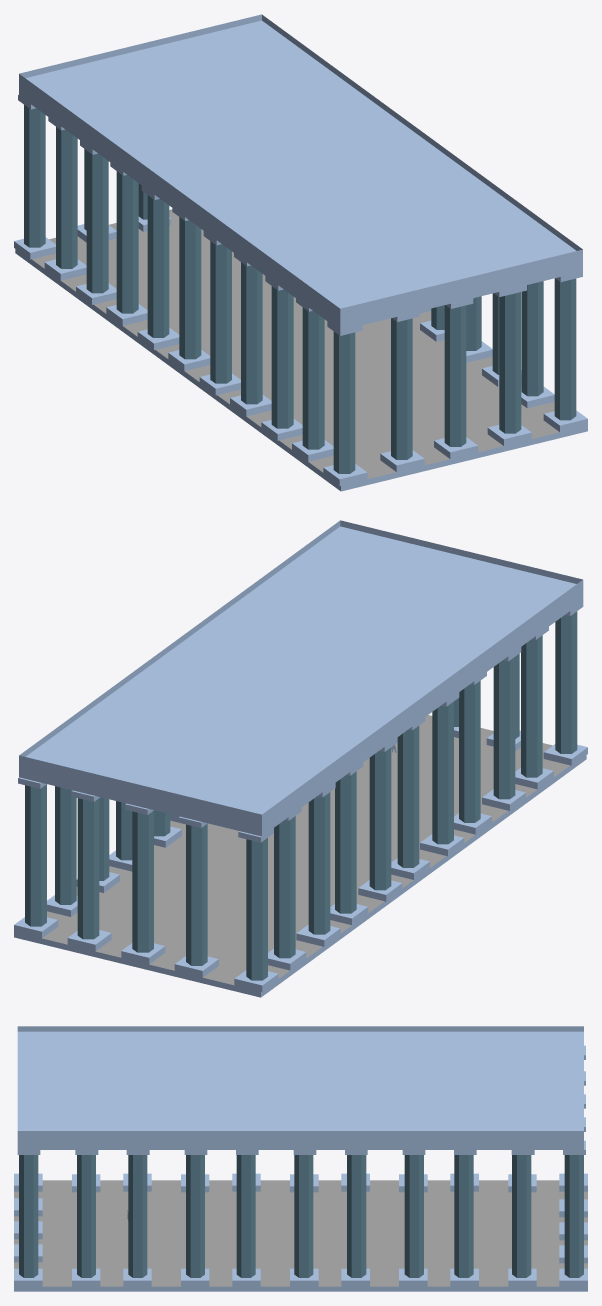
The model's file is temple1.fbx.
The picture shows the model from 3 angles, top to bottom: view 1: azimuth 30°, elevation 25°; view 2: azimuth 150°, elevation 25°; view 3: azimuth 270°, elevation 25°; orthographic projection. The views are drawn at different scales.
Visible parts, largest first — view 1: Group1, Group2, Group48, Group91; view 2: Group1, Group2, Group48, Group91; view 3: Group1, Group48, Group2, Group91, Group17, Group8, Group11, Group54, Group14, Group51, Group60, Group63 (+3 smaller).
Boxes of the visible parts, left/top/right/bottom form: Group1: left=19, top=14, right=582, bottom=314; Group2: left=24, top=105, right=576, bottom=473; Group48: left=15, top=209, right=587, bottom=491; Group91: left=19, top=20, right=582, bottom=330; Group1: left=19, top=520, right=583, bottom=820; Group2: left=25, top=611, right=577, bottom=980; Group48: left=14, top=715, right=586, bottom=997; Group91: left=19, top=526, right=583, bottom=836; Group1: left=17, top=1026, right=583, bottom=1136; Group48: left=14, top=1180, right=587, bottom=1291; Group2: left=19, top=1155, right=583, bottom=1277; Group91: left=17, top=1031, right=583, bottom=1149; Group17: left=232, top=1268, right=260, bottom=1286; Group8: left=450, top=1268, right=478, bottom=1286; Group11: left=123, top=1268, right=151, bottom=1286; Group54: left=290, top=1268, right=318, bottom=1286; Group14: left=559, top=1268, right=587, bottom=1286; Group51: left=14, top=1268, right=42, bottom=1286; Group60: left=508, top=1268, right=536, bottom=1286; Group63: left=399, top=1268, right=427, bottom=1286.
Size of the model in its own units: 1445 by 1006 by 3279.
